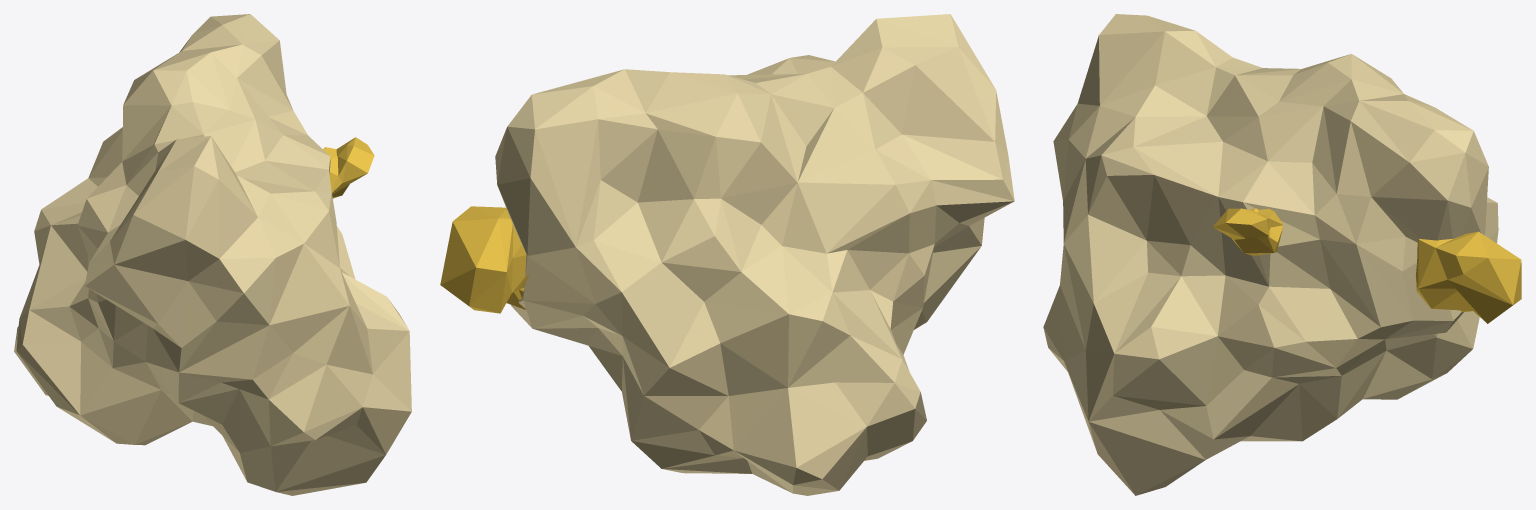
Rendered from MetalOre (15).fbx.
The picture shows the model from 3 angles, left to right: view 1: azimuth 30°, elevation 25°; view 2: azimuth 150°, elevation 25°; view 3: azimuth 270°, elevation 25°; orthographic projection. The views are drawn at different scales.
Parts seen in each view (by area): view 1: Asteroid370; view 2: Asteroid370; view 3: Asteroid370.
Boxes of the visible parts, x1,y1,x2,y2 form: Asteroid370: (14, 14, 411, 495); Asteroid370: (440, 14, 1014, 495); Asteroid370: (1043, 14, 1521, 495).
Size of the model in its own units: 321 by 350 by 377.
